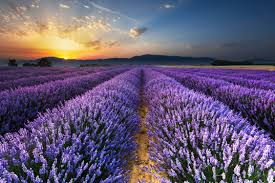field: (8, 64, 265, 177)
flower: (5, 68, 272, 180)
sky: (1, 2, 262, 57)
